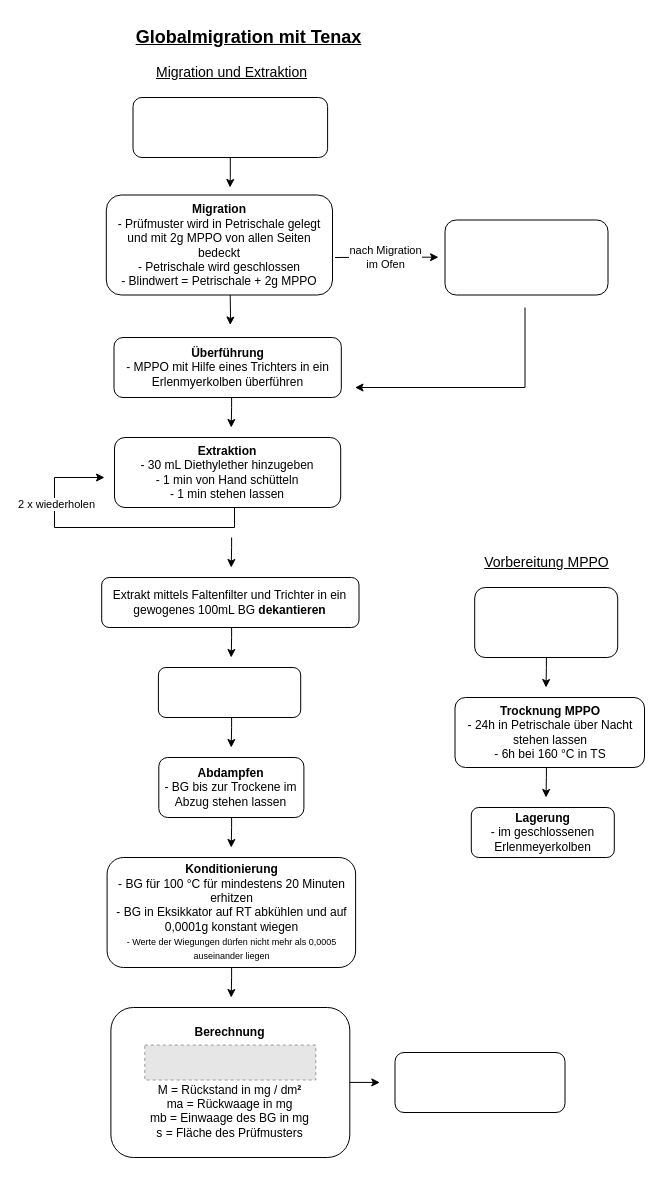
Image size: 662x1186. Some labels were removed from this diagram. Grey dashed boxes stand in for pictures. The shapes that lost their labels are listed below. From the top down, each one's centre as x and y in pixels, then its label:
the point at 230,127: Probenvorbereitung - dreifach Bestimmung - Größe je Prüfmuster ca. 50 cm²
the point at 526,257: Abkühlen - geschlossene Petrischale ca. 30 min auf RT abkühlen lassen
the point at 546,622: Reinigung von MPPO - 6h mit Diethylether unter Rückfluss kochen
the point at 229,692: Nachspülen - Filter mit 10 mL nachspülen
the point at 479,1082: Ergebnis - Mittelwert der drei Ergebnisse
